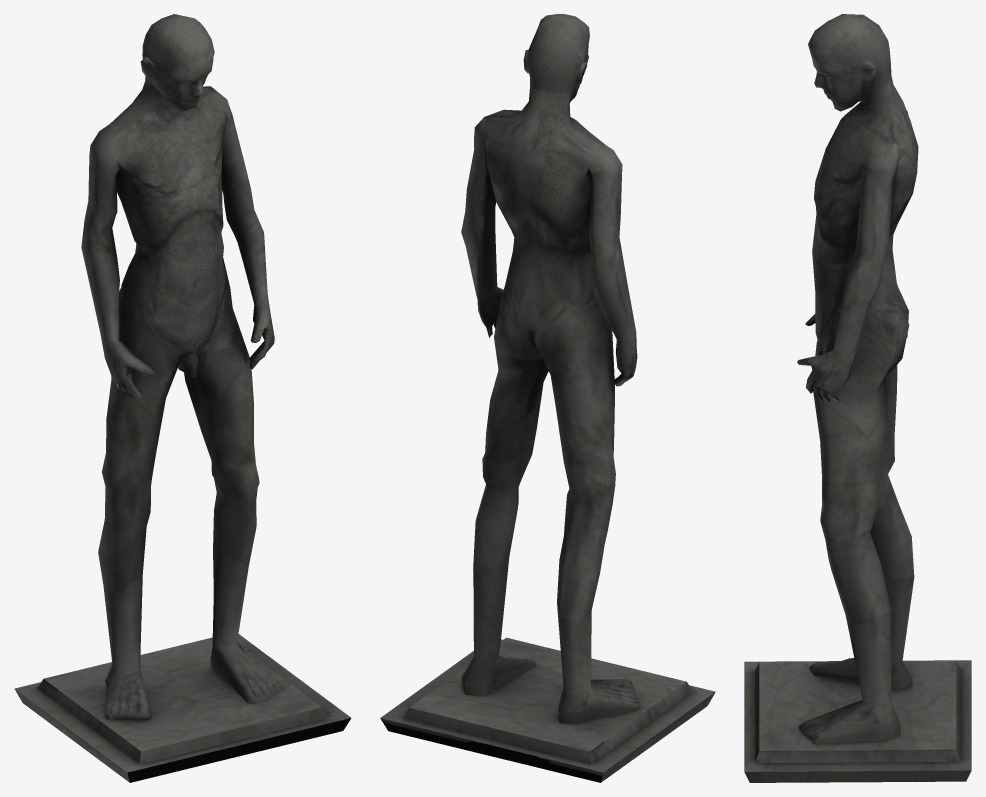
The model's file is deformed_man.dae.
3 renders of one model, left to right at view 1: azimuth 30°, elevation 25°; view 2: azimuth 150°, elevation 25°; view 3: azimuth 270°, elevation 25°, orthographic.
Visible parts, largest first — view 1: polySurface24; view 2: polySurface24; view 3: polySurface24.
Part boxes in pixels (x1,y1,x2,y2): polySurface24: [14, 14, 351, 782]; polySurface24: [380, 14, 715, 782]; polySurface24: [744, 14, 971, 782].
Size of the model in its own units: 0.6696 by 2.01 by 0.584.
